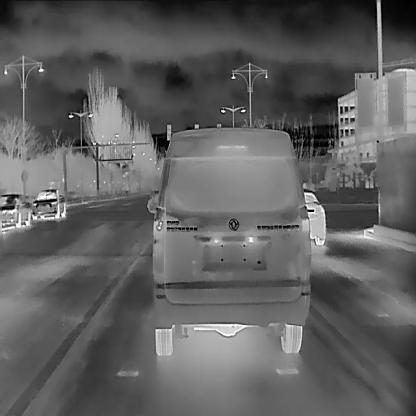car: (146, 127, 312, 355), (300, 187, 326, 244), (29, 188, 66, 220), (0, 193, 32, 228)
